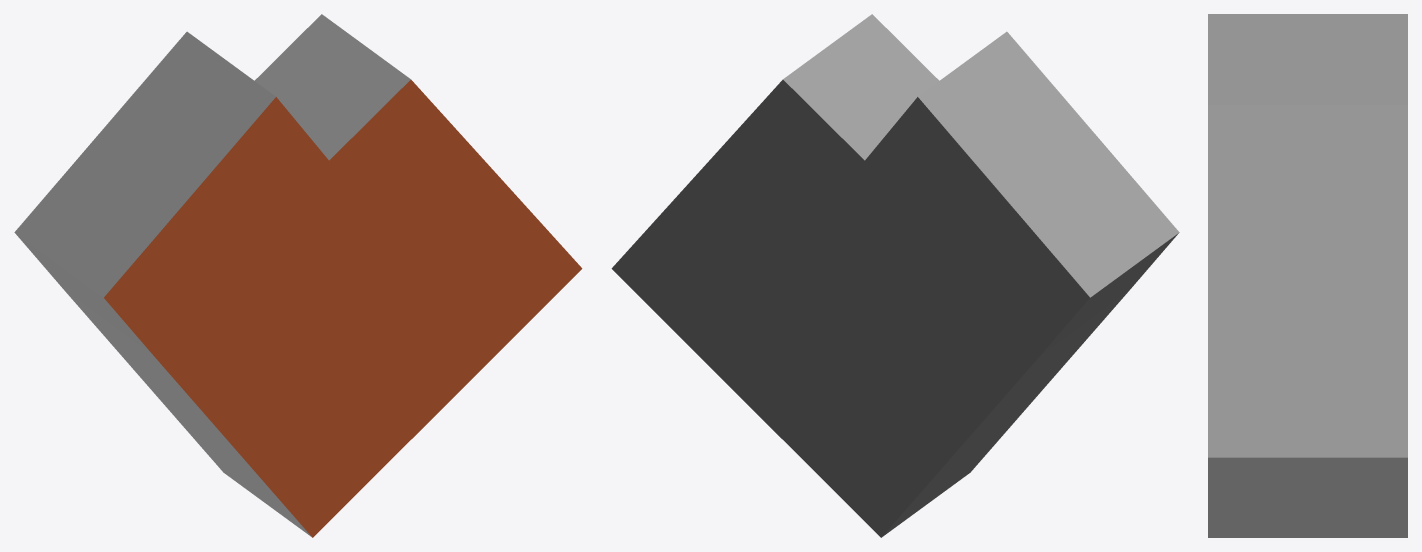
File: construction_0746_assumed_A_Casa_h6m.obj
3 views of the same model, side by side, from view 1: azimuth 30°, elevation 25°; view 2: azimuth 150°, elevation 25°; view 3: azimuth 270°, elevation 25° (orthographic). The views are drawn at different scales.
Visible parts, largest first — view 1: construction_0746_assumed_A_Casa; view 2: construction_0746_assumed_A_Casa; view 3: construction_0746_assumed_A_Casa.
Boxes of the visible parts, x1,y1,x2,y2 form: construction_0746_assumed_A_Casa: (14,14,582,537); construction_0746_assumed_A_Casa: (611,14,1179,537); construction_0746_assumed_A_Casa: (1208,14,1407,537).
Size of the model in its own units: 18.58 by 16.69 by 6.
